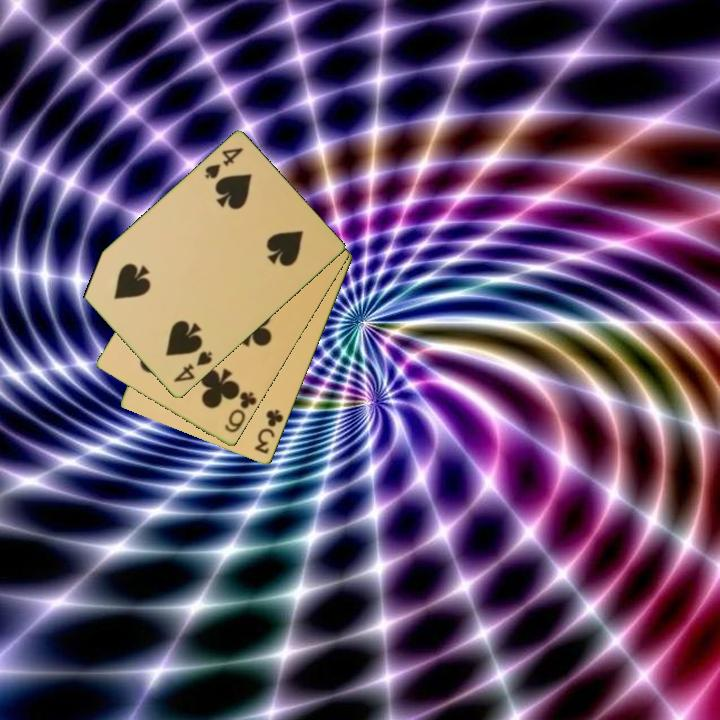3c: (251, 406, 287, 457)
4s: (170, 348, 215, 386), (201, 144, 246, 182)
6c: (221, 388, 260, 436)
